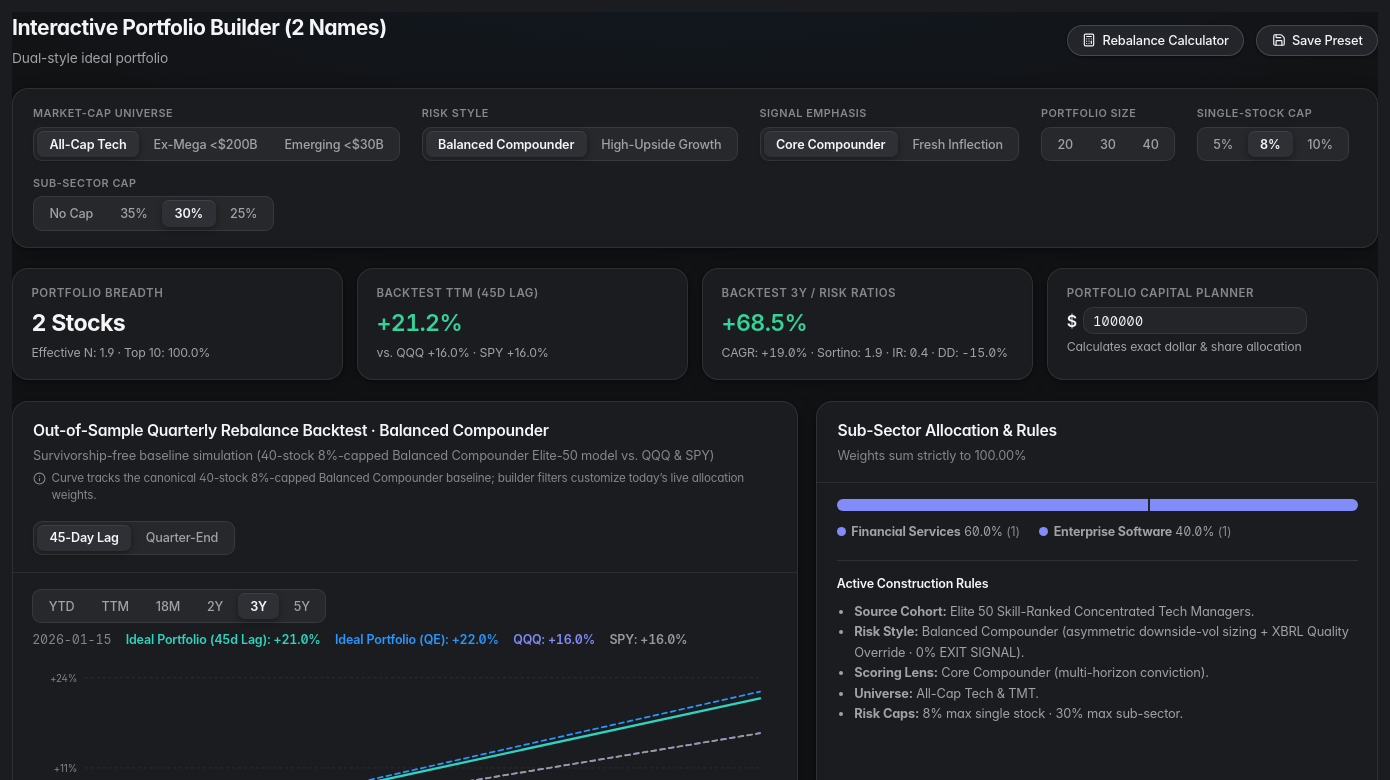
Conviction Matrix UI integration across Drawer, HoldingsTab, and IdealPortfolioTab › toggles Risk Style between Balanced Compounder and High-Upside Growth, switches backtest metrics, and displays Vol Shield
Expected: the text "+21.2%" is shown, [376, 309, 462, 337]
Click the button "High-Upside Growth": point(661, 144) [589, 131, 734, 157]
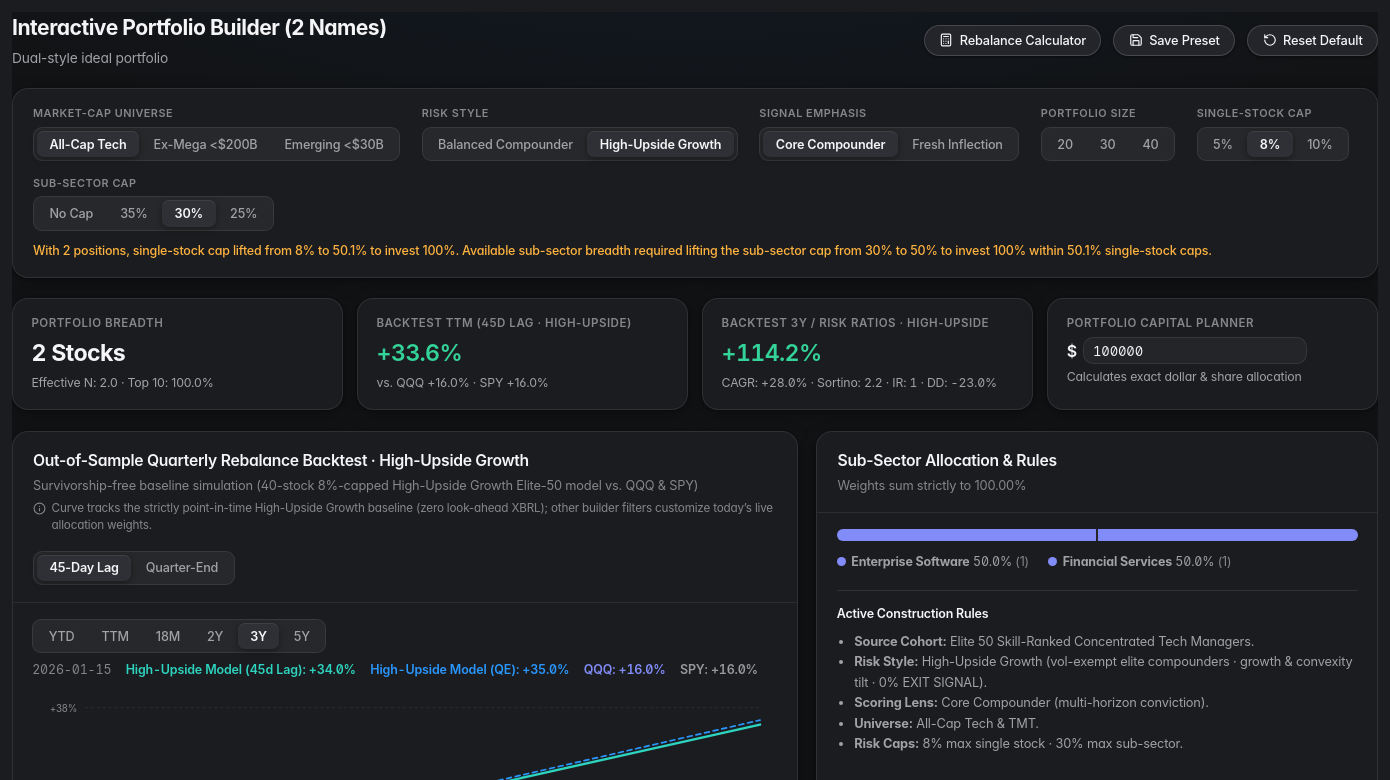
Now the text "+33.6%" is shown, box [376, 339, 462, 367]
Now the heading "Out-of-Sample Quarterly Rebalance Backtest · High-Upside Growth" is shown, box [33, 451, 529, 470]
Now the list item "vol-exempt elite compounders" is shown, box [854, 654, 1353, 690]
Click the button "Reset Default": point(1313, 40) [1247, 25, 1378, 56]
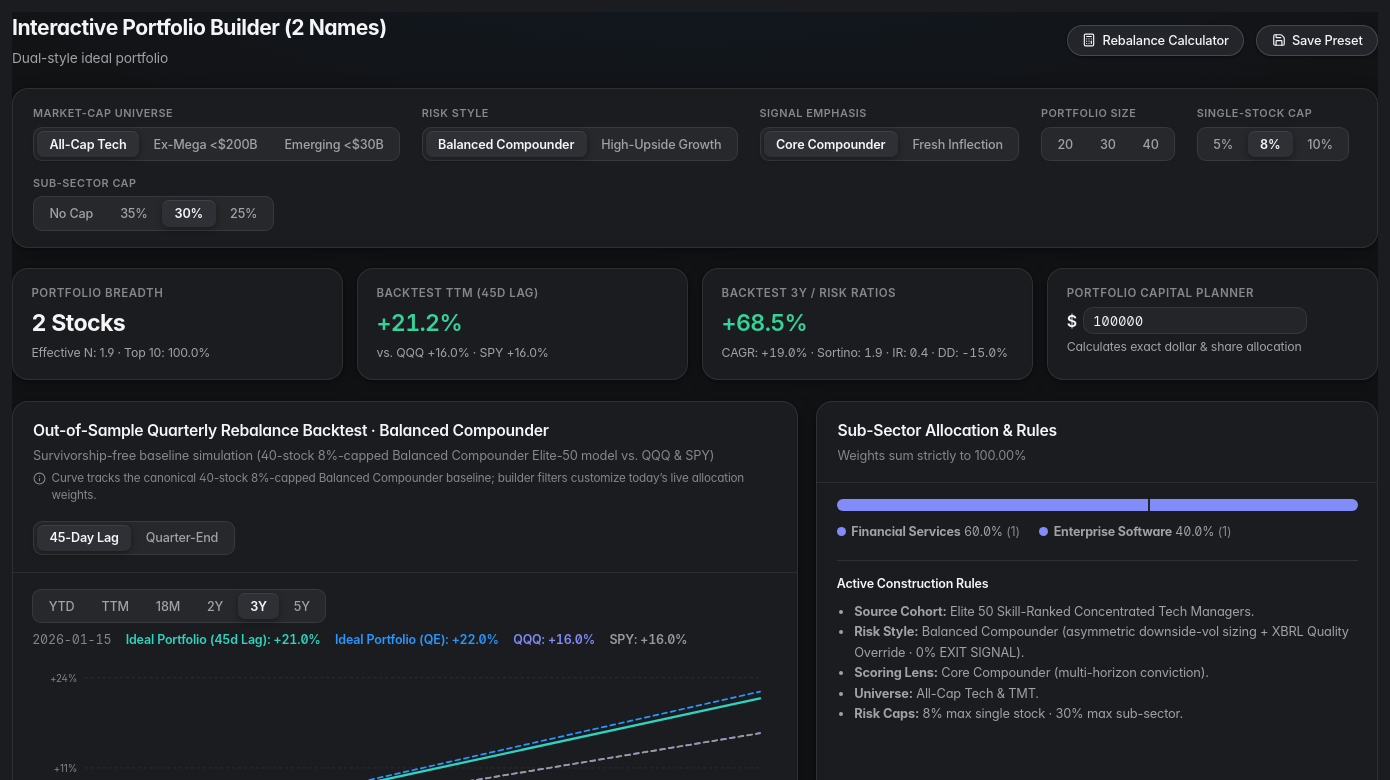
Now the text "+21.2%" is shown, box [376, 309, 462, 337]
